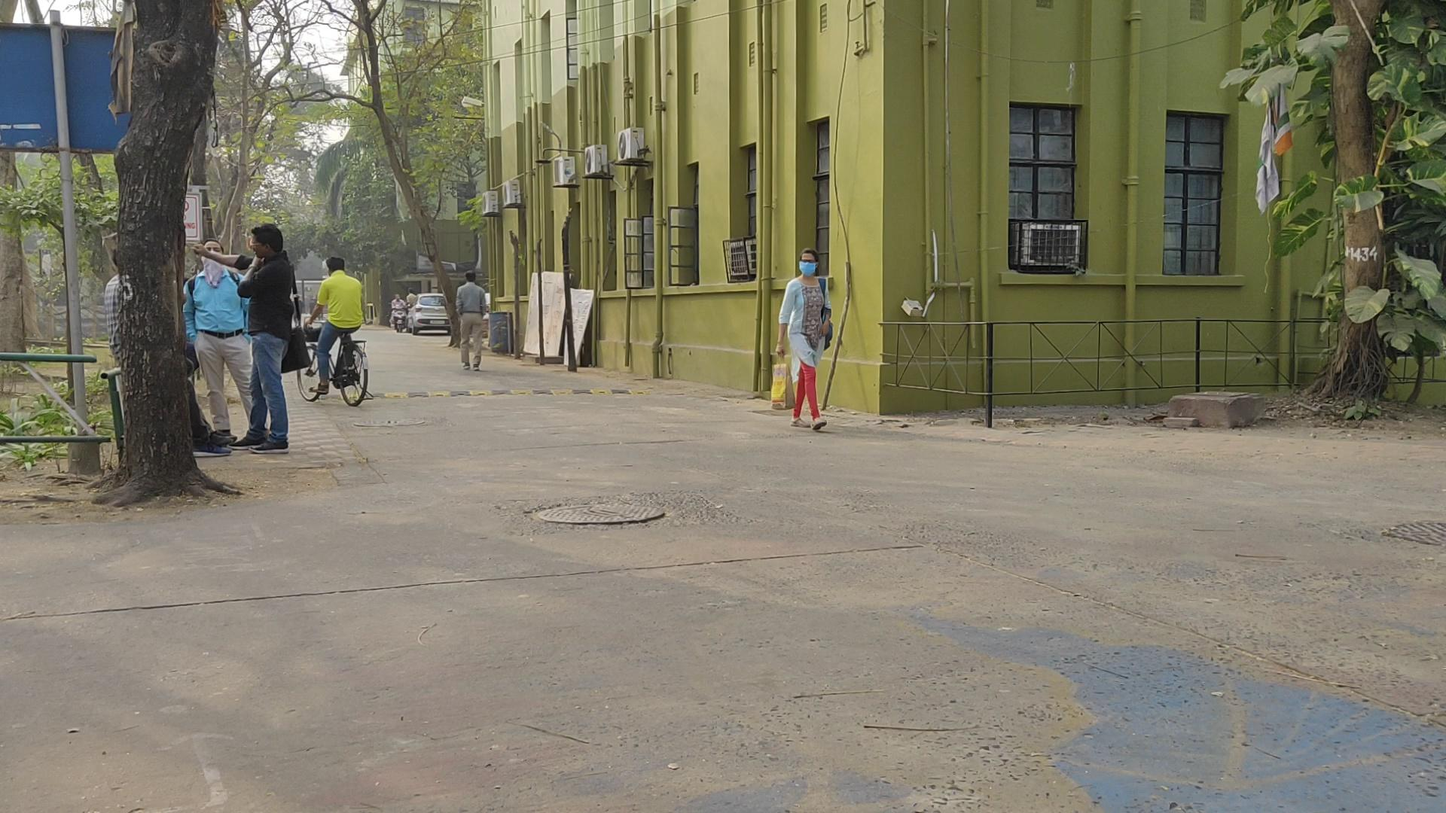bike: (300, 257, 371, 413), (387, 292, 410, 334)
car: (406, 292, 451, 334)
